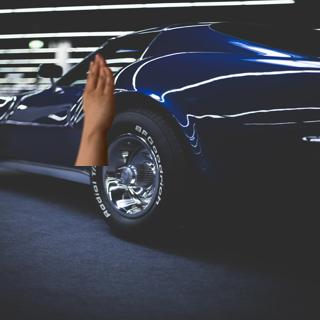RIGHT: (77, 50, 120, 138)
